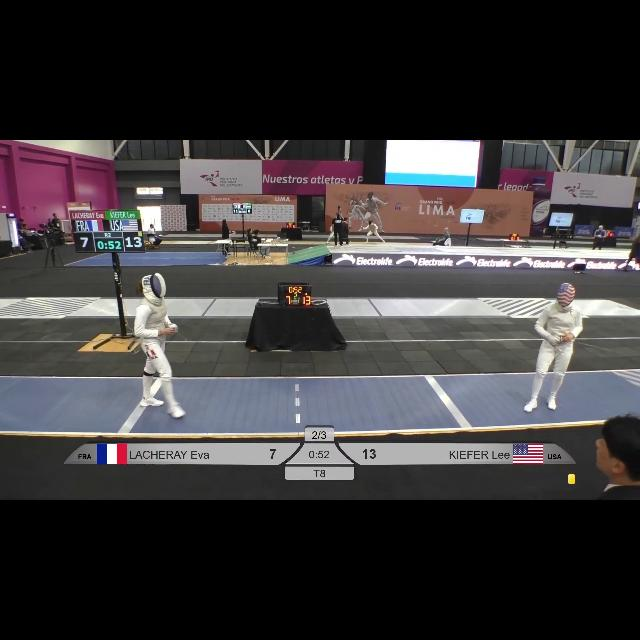blade: (559, 336, 619, 354)
